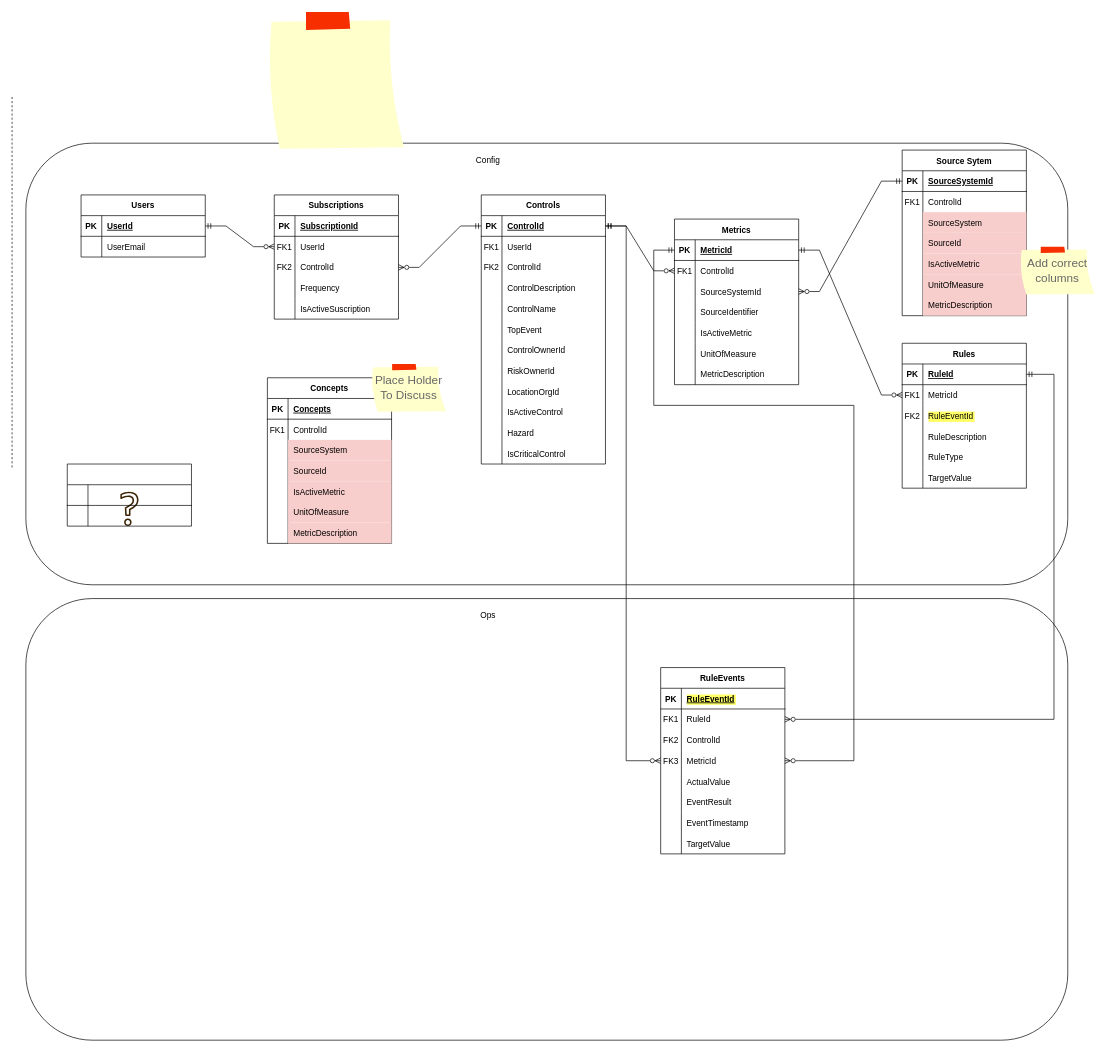
This 1107x1052 diagram has some shape labels left out. The shapes that lost their labels are listed below. From the top down, each one's centre as x and y in pixels, then its label:
At (x=336, y=80): "Add Auditability created_date created_by changed_date changed_by".
At (x=129, y=494): "Alerts".
